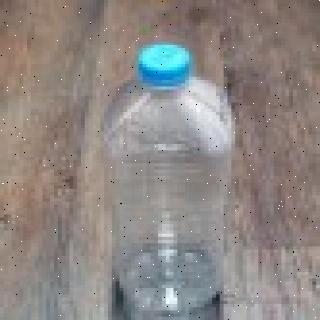Plastic-bottle: (94, 39, 240, 320)
